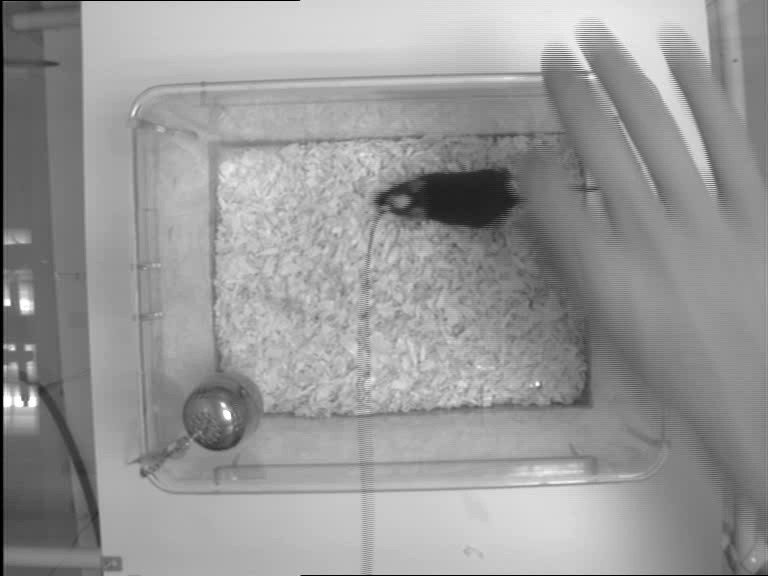mice: (367, 162, 626, 225)
